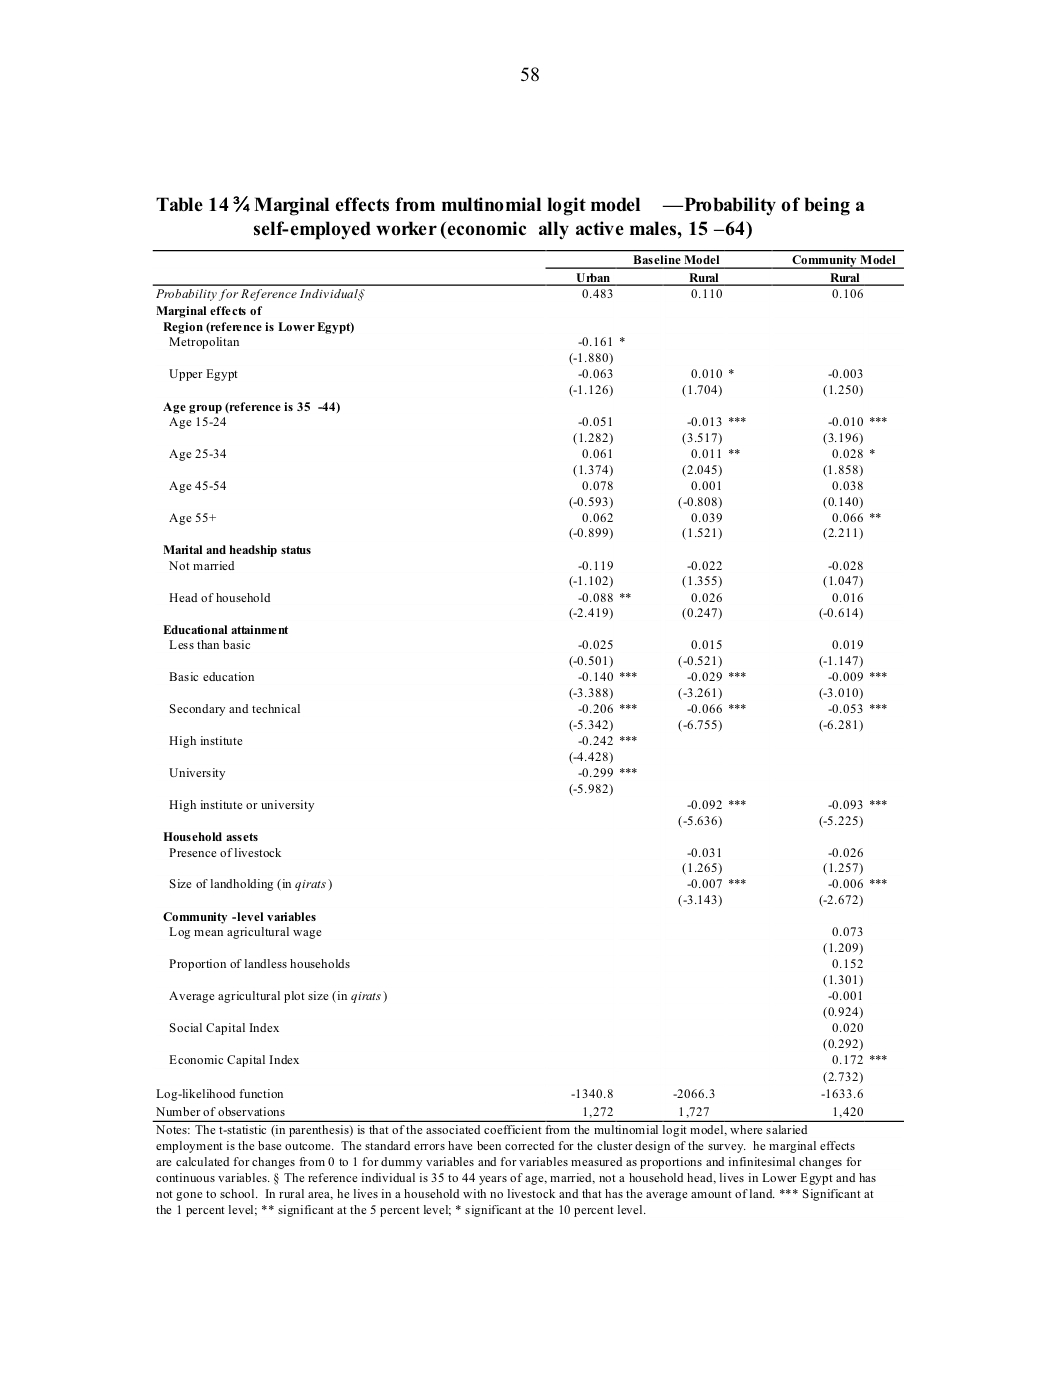Table: (152, 250, 903, 1121)
